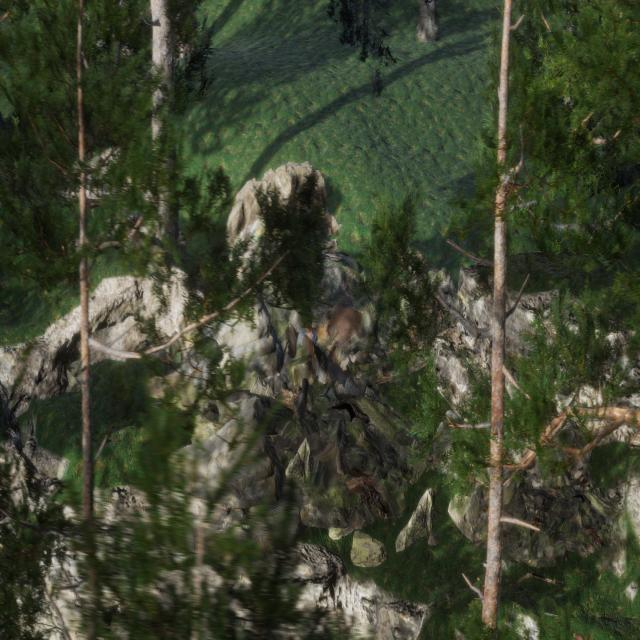Human: (281, 299, 377, 426)
